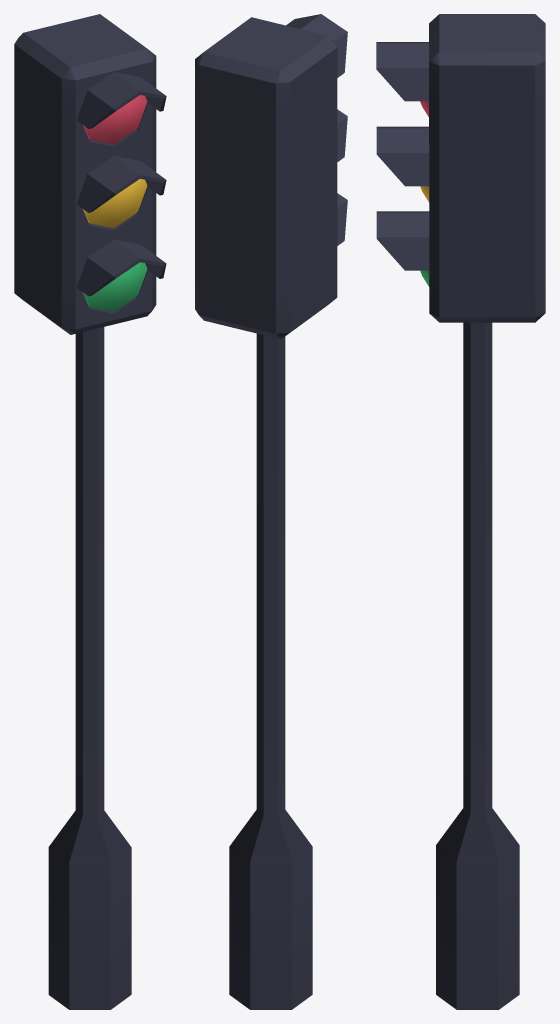
Rendered from trafficLightNewWithLights.gltf.
The picture shows the model from 3 angles, left to right: view 1: azimuth 30°, elevation 25°; view 2: azimuth 150°, elevation 25°; view 3: azimuth 270°, elevation 25°; orthographic projection.
Visible parts, largest first — view 1: Main body, Stick, Green light, Orange light, Red light; view 2: Main body, Stick; view 3: Main body, Stick.
Boxes of the visible parts, x1,y1,x2,y2 form: Main body: (14,14,166,334); Stick: (48,327,131,1009); Green light: (82,262,147,311); Orange light: (83,179,147,227); Red light: (83,95,147,144); Main body: (195,14,347,339); Stick: (229,333,312,1009); Main body: (376,14,545,322); Stick: (436,322,519,1009).
Size of the model in its own units: 0.00536 by 0.0515 by 0.00822.
